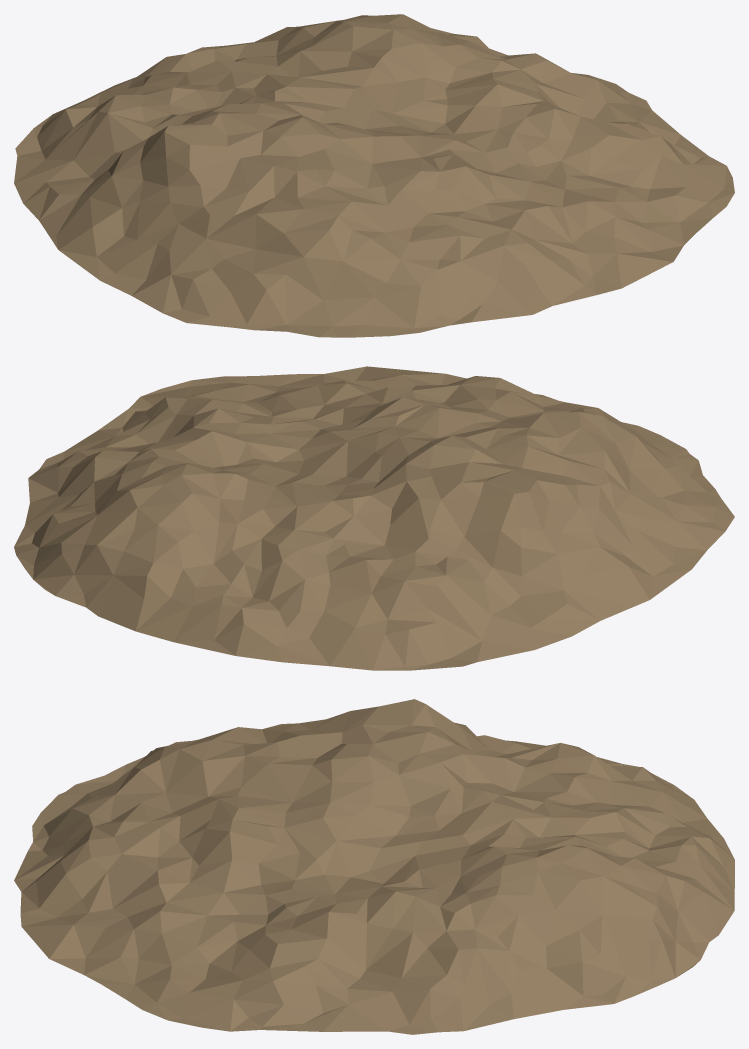
The model's file is SmallTerrain08.fbx.
3 renders of one model, top to bottom at view 1: azimuth 30°, elevation 25°; view 2: azimuth 150°, elevation 25°; view 3: azimuth 270°, elevation 25°, orthographic. The views are drawn at different scales.
Visible parts, largest first — view 1: SmallTerrain08; view 2: SmallTerrain08; view 3: SmallTerrain08.
Part boxes in pixels (x1,y1,x2,y2): SmallTerrain08: (14, 14, 734, 337); SmallTerrain08: (14, 366, 734, 670); SmallTerrain08: (14, 699, 734, 1034).
Size of the model in its own units: 50.56 by 7.27 by 50.64.
